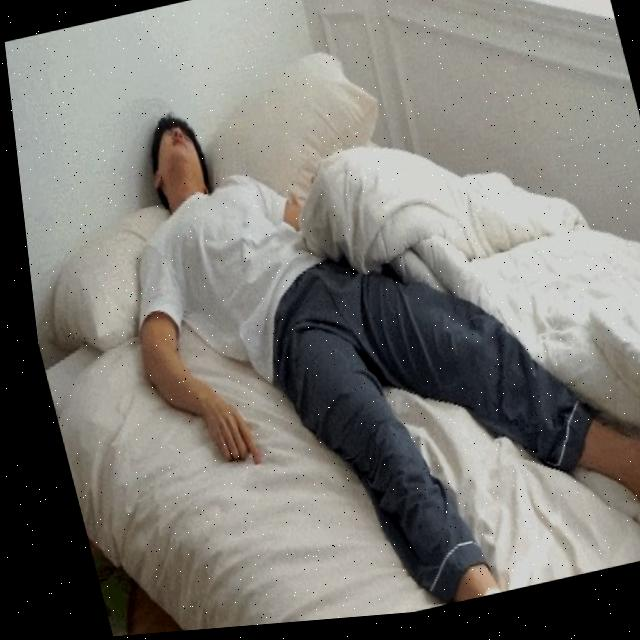sleeping-person: (56, 0, 640, 637)
